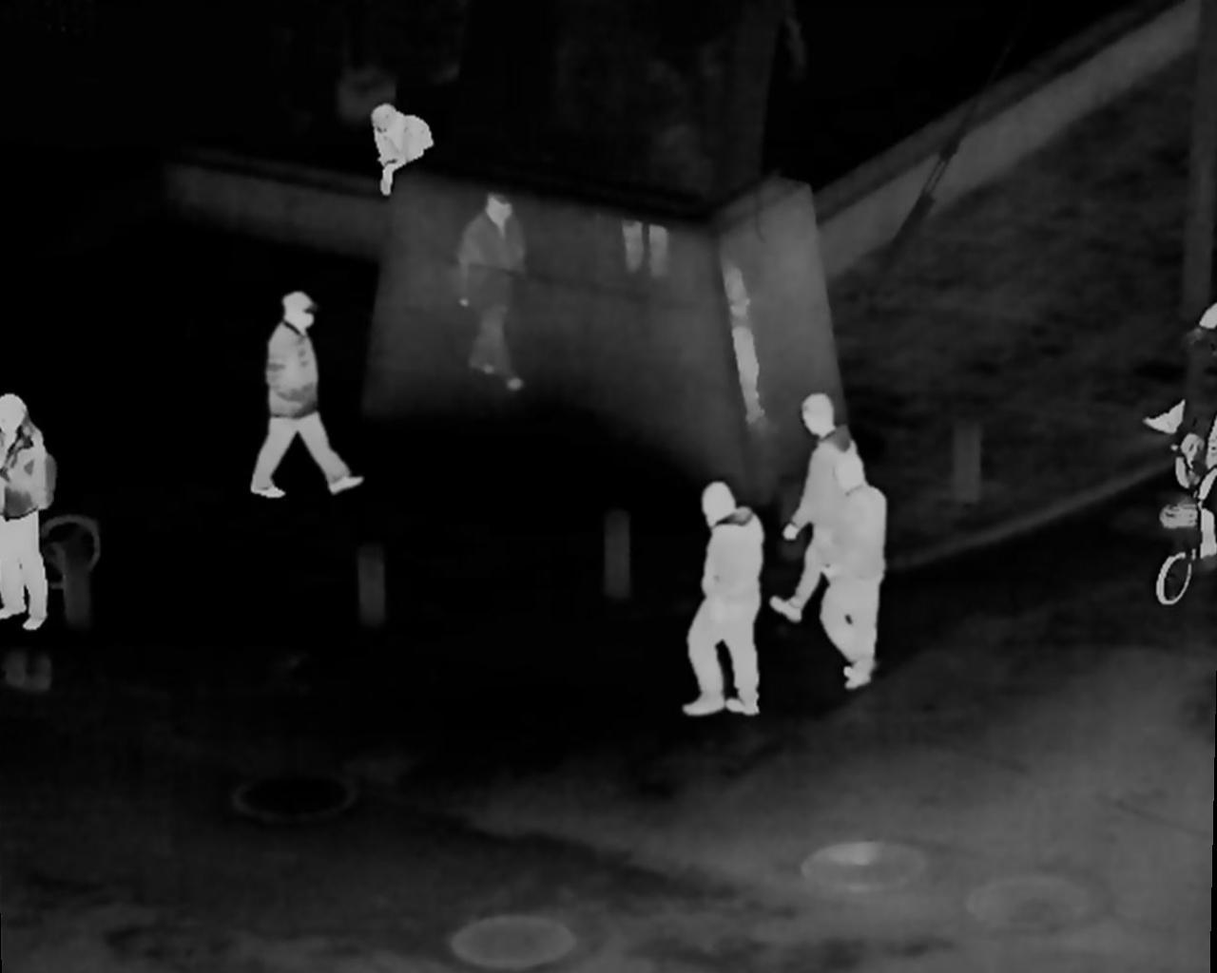person: (250, 292, 377, 499), (673, 471, 763, 716), (776, 378, 845, 615), (830, 450, 879, 689), (377, 101, 437, 200)
